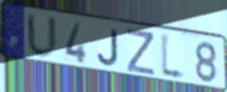4: (63, 20, 88, 65)
8: (193, 40, 219, 85)
J: (96, 28, 120, 68)
L: (160, 31, 189, 84)
U: (25, 11, 60, 62)
Z: (125, 27, 156, 77)
